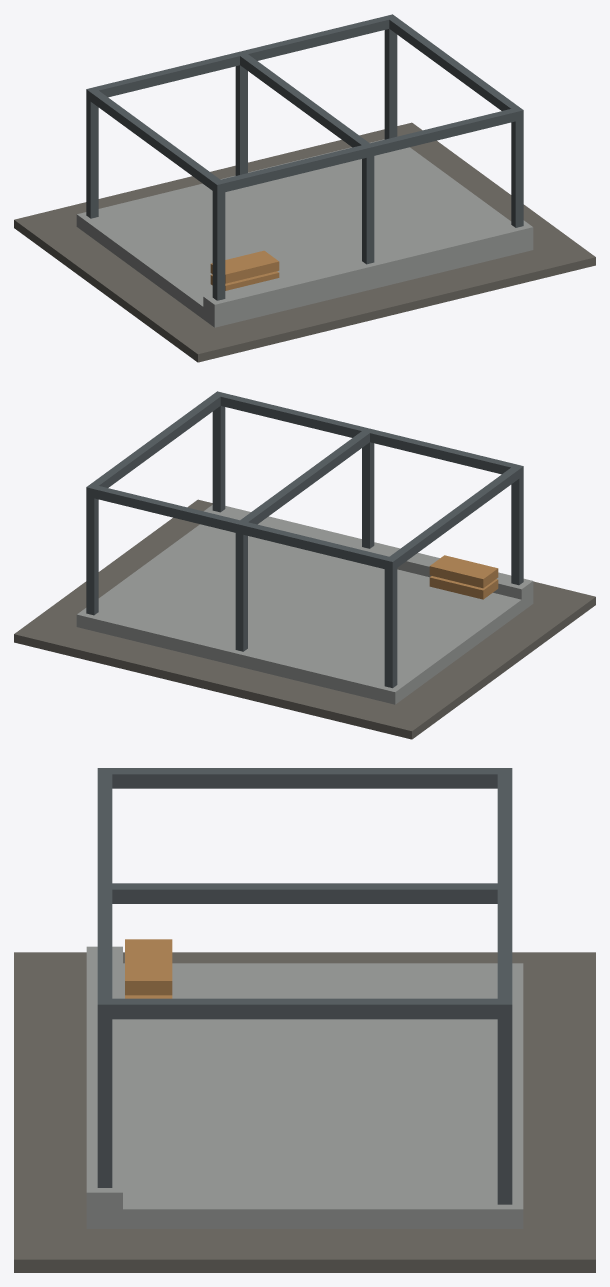
The model's file is CafeStage 3.glb.
3 renders of one model, top to bottom at view 1: azimuth 30°, elevation 25°; view 2: azimuth 150°, elevation 25°; view 3: azimuth 270°, elevation 25°, orthographic. The views are drawn at different scales.
Parts seen in each view (by area): view 1: CafeFoundation.001, TileBase_10x8.002, CafeFrame, MaterialStacks; view 2: CafeFoundation.001, TileBase_10x8.002, CafeFrame, MaterialStacks; view 3: CafeFoundation.001, TileBase_10x8.002, CafeFrame, MaterialStacks.
Boxes of the visible parts, x1=… form: CafeFoundation.001: x1=76, y1=139, x2=533, y2=327; TileBase_10x8.002: x1=14, y1=122, x2=595, y2=362; CafeFrame: x1=86, y1=14, x2=523, y2=300; MaterialStacks: x1=210, y1=250, x2=279, y2=290; CafeFoundation.001: x1=76, y1=505, x2=533, y2=704; TileBase_10x8.002: x1=14, y1=499, x2=595, y2=739; CafeFrame: x1=86, y1=391, x2=523, y2=688; MaterialStacks: x1=429, y1=555, x2=498, y2=599; CafeFoundation.001: x1=86, y1=946, x2=523, y2=1228; TileBase_10x8.002: x1=14, y1=952, x2=595, y2=1272; CafeFrame: x1=97, y1=768, x2=512, y2=1204; MaterialStacks: x1=125, y1=939, x2=172, y2=998.
Size of the model in its own units: 10 by 3.53 by 8.
